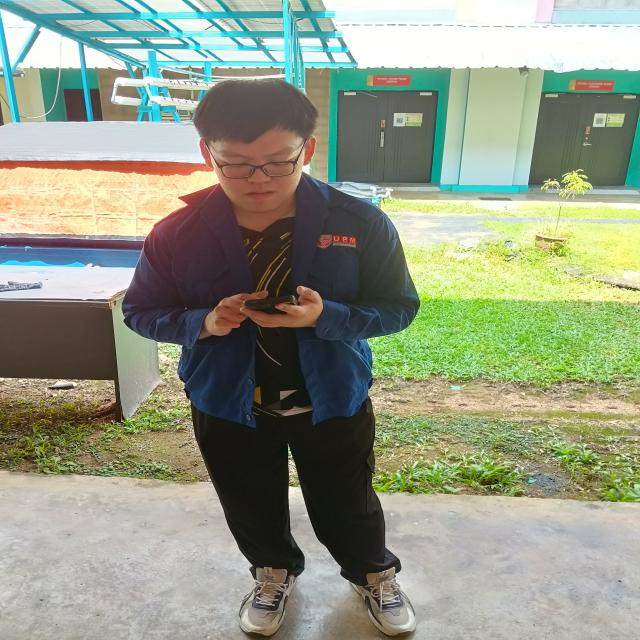person_with_labcoat: (123, 79, 420, 635)
